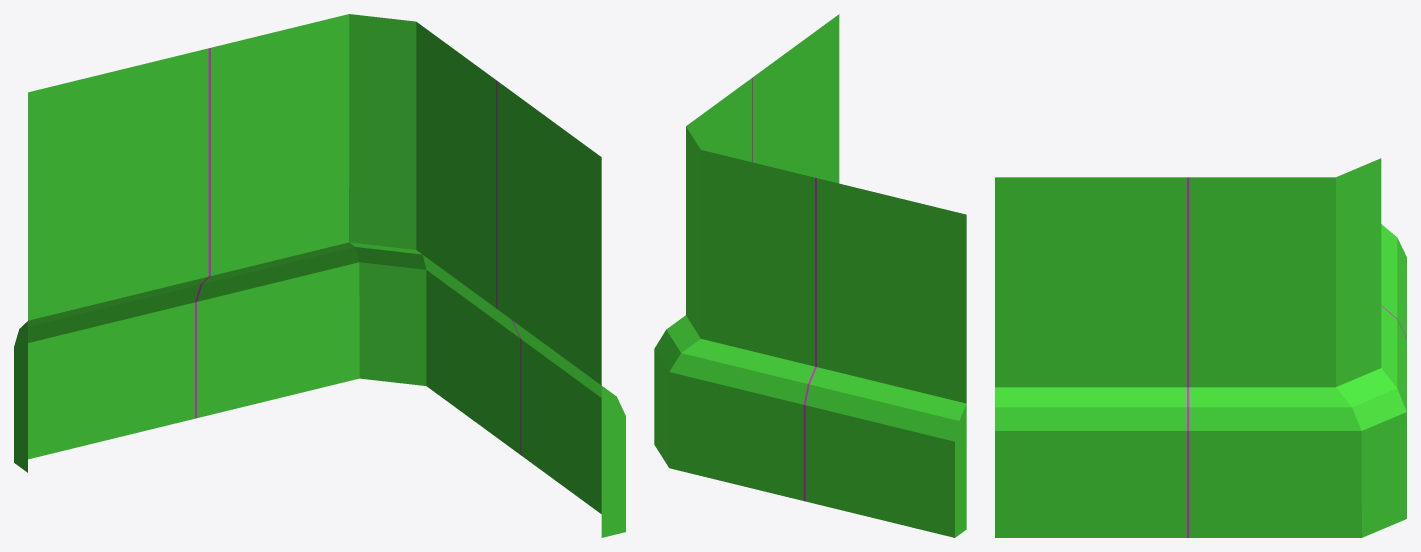
The model's file is Wall_43_A_Corner_Out_01.fbx.
3 views of the same model, side by side, from view 1: azimuth 30°, elevation 25°; view 2: azimuth 150°, elevation 25°; view 3: azimuth 270°, elevation 25° (orthographic). The views are drawn at different scales.
Parts seen in each view (by area): view 1: Wall_43_A_Corner_Out_01; view 2: Wall_43_A_Corner_Out_01; view 3: Wall_43_A_Corner_Out_01.
Boxes of the visible parts, x1,y1,x2,y2 form: Wall_43_A_Corner_Out_01: (14, 14, 625, 537); Wall_43_A_Corner_Out_01: (654, 14, 966, 537); Wall_43_A_Corner_Out_01: (995, 158, 1406, 537).
Bounding box in the file's own units: 487 × 457 × 487.
